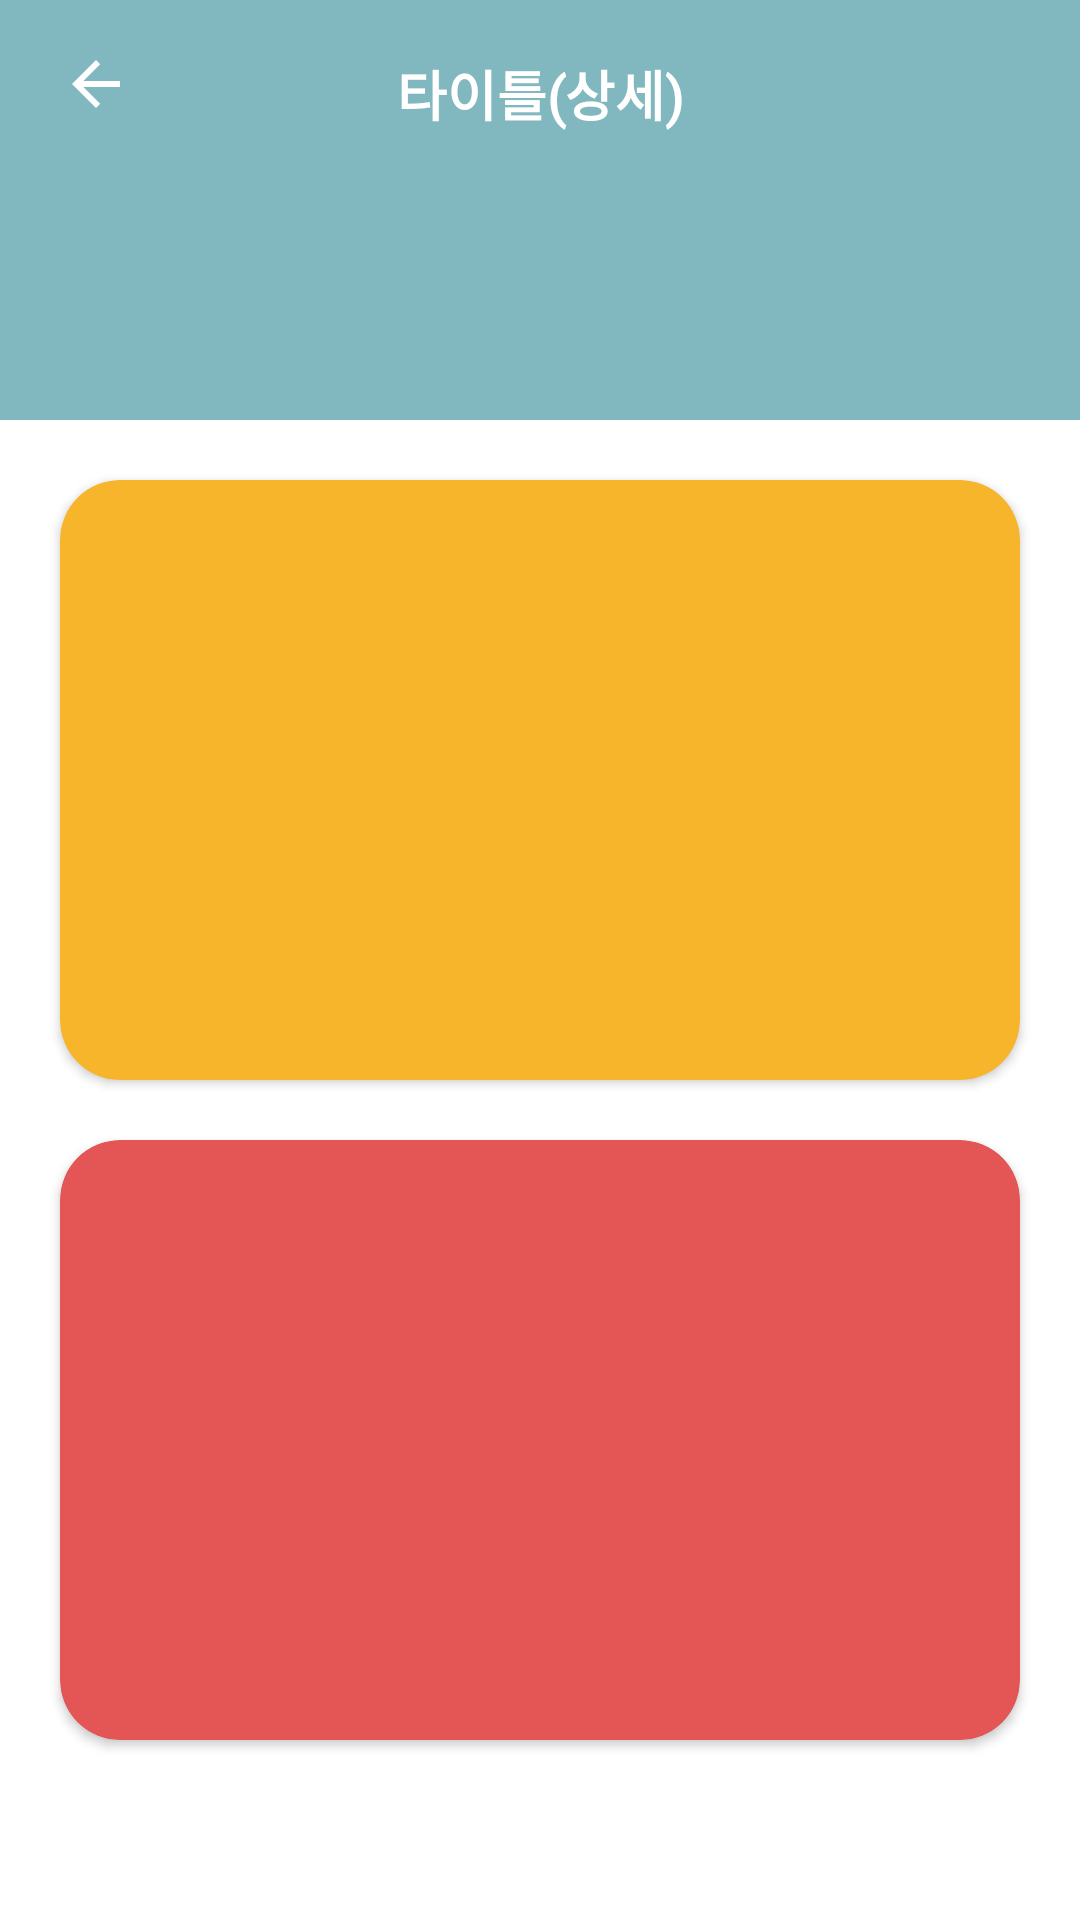

Named icons in this screenshot (1080 x 1920) and their bounding boxes, {"left": x1, "top": y1, "right": x2, "bottom": y2}:
back: {"left": 72, "top": 60, "right": 120, "bottom": 108}
